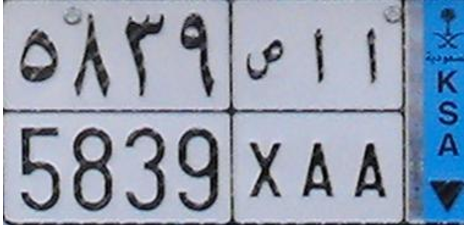3: (124, 14, 168, 212)
5: (17, 27, 64, 213)
8: (72, 11, 114, 212)
9: (176, 12, 220, 213)
A: (354, 27, 388, 200), (302, 28, 335, 199)
X: (247, 38, 285, 199)
